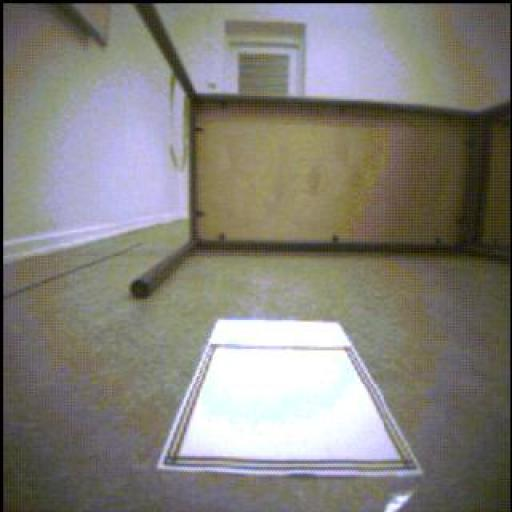Pad: (164, 318, 421, 476)
